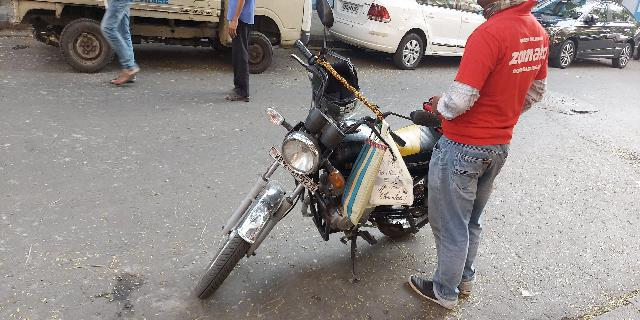Motorbike: (178, 36, 442, 298)
